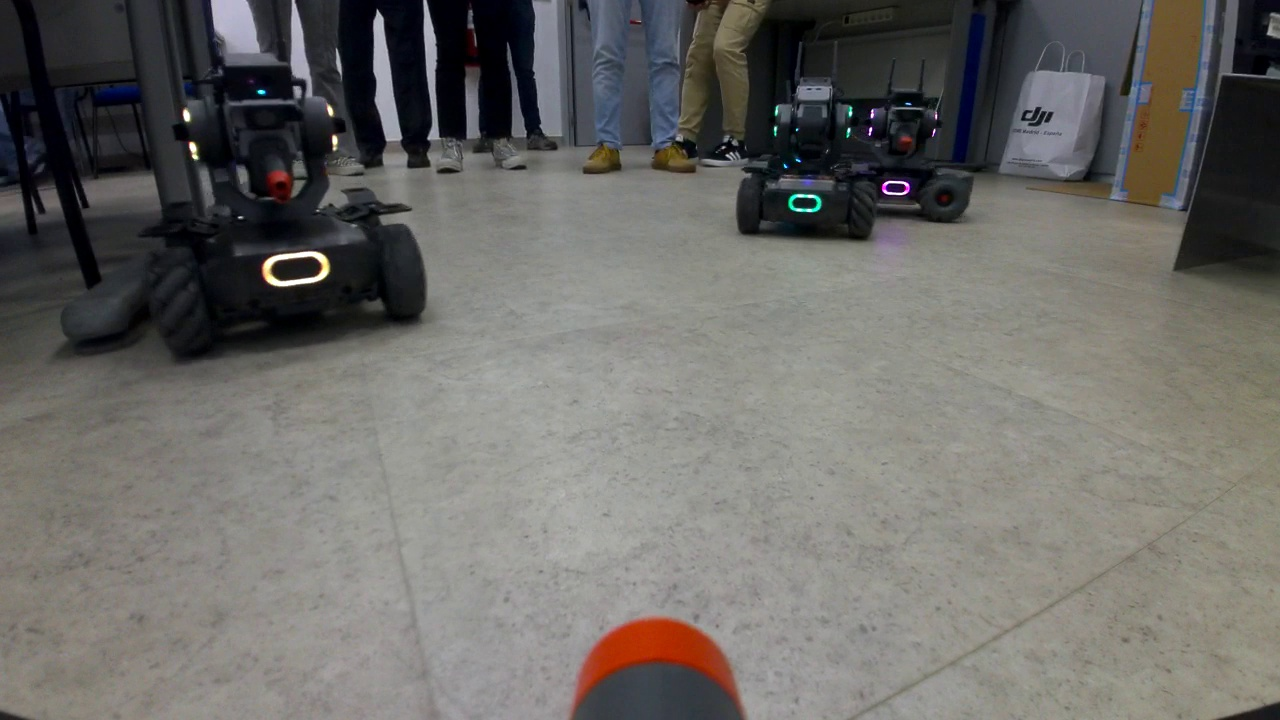robot: (142, 50, 431, 373), (736, 76, 878, 245), (862, 86, 977, 223)
